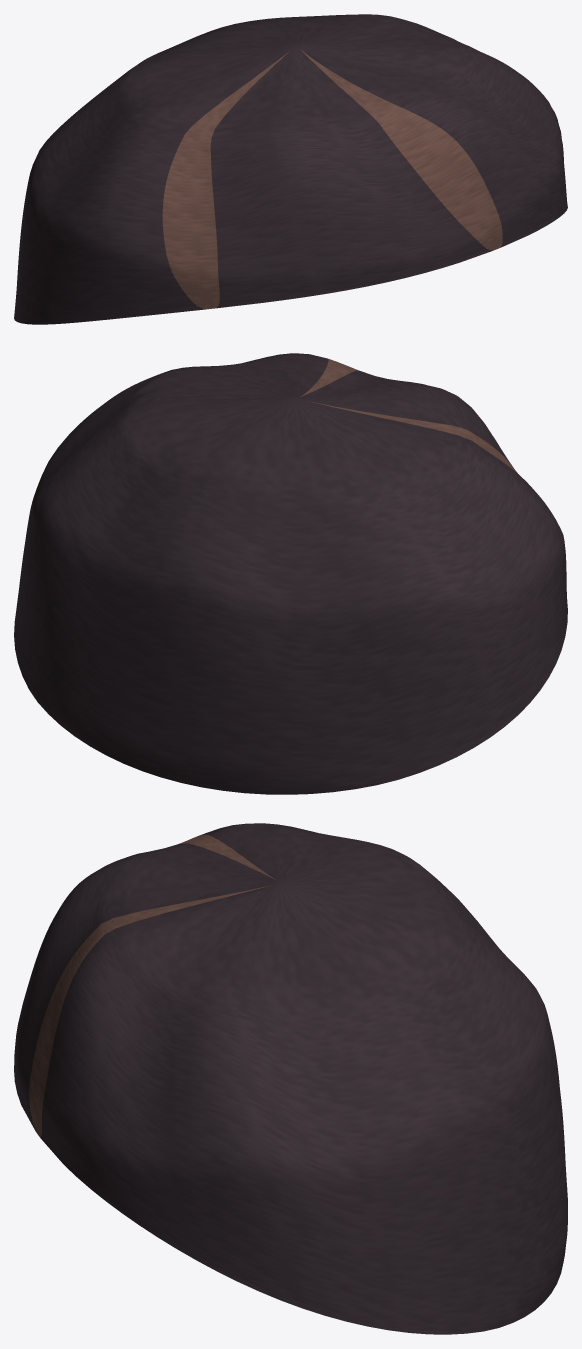
Rendered from hair_crop_default.gltf.
3 renders of one model, top to bottom at view 1: azimuth 30°, elevation 25°; view 2: azimuth 150°, elevation 25°; view 3: azimuth 270°, elevation 25°, orthographic. The views are drawn at different scales.
Parts seen in each view (by area): view 1: Textured Crop default; view 2: Textured Crop default; view 3: Textured Crop default.
Part boxes in pixels (box(x1,y1,x2,y2)): Textured Crop default: box(14, 14, 567, 324); Textured Crop default: box(14, 353, 567, 794); Textured Crop default: box(14, 823, 567, 1334).
Size of the model in its own units: 0.4702 by 0.2665 by 0.364.
Materials: 2 (2 with a texture image).
